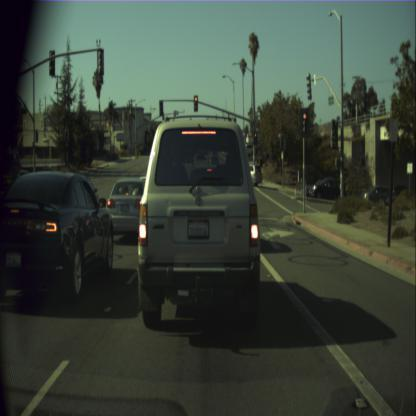Red: (300, 108, 310, 137), (252, 130, 258, 144), (193, 95, 198, 111)
RedLeft: (64, 127, 67, 140)
off: (160, 101, 164, 116)
